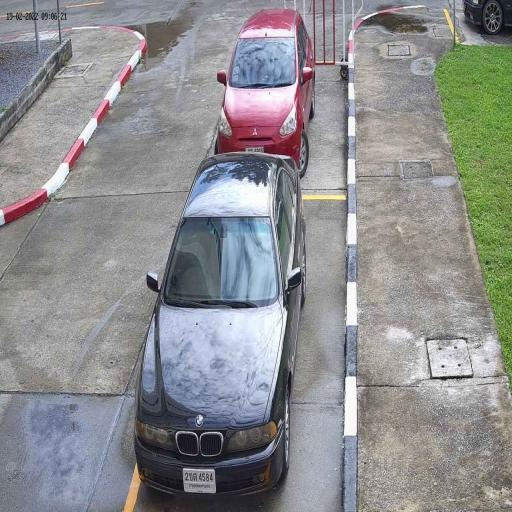car: (133, 150, 309, 503), (212, 8, 321, 179)
